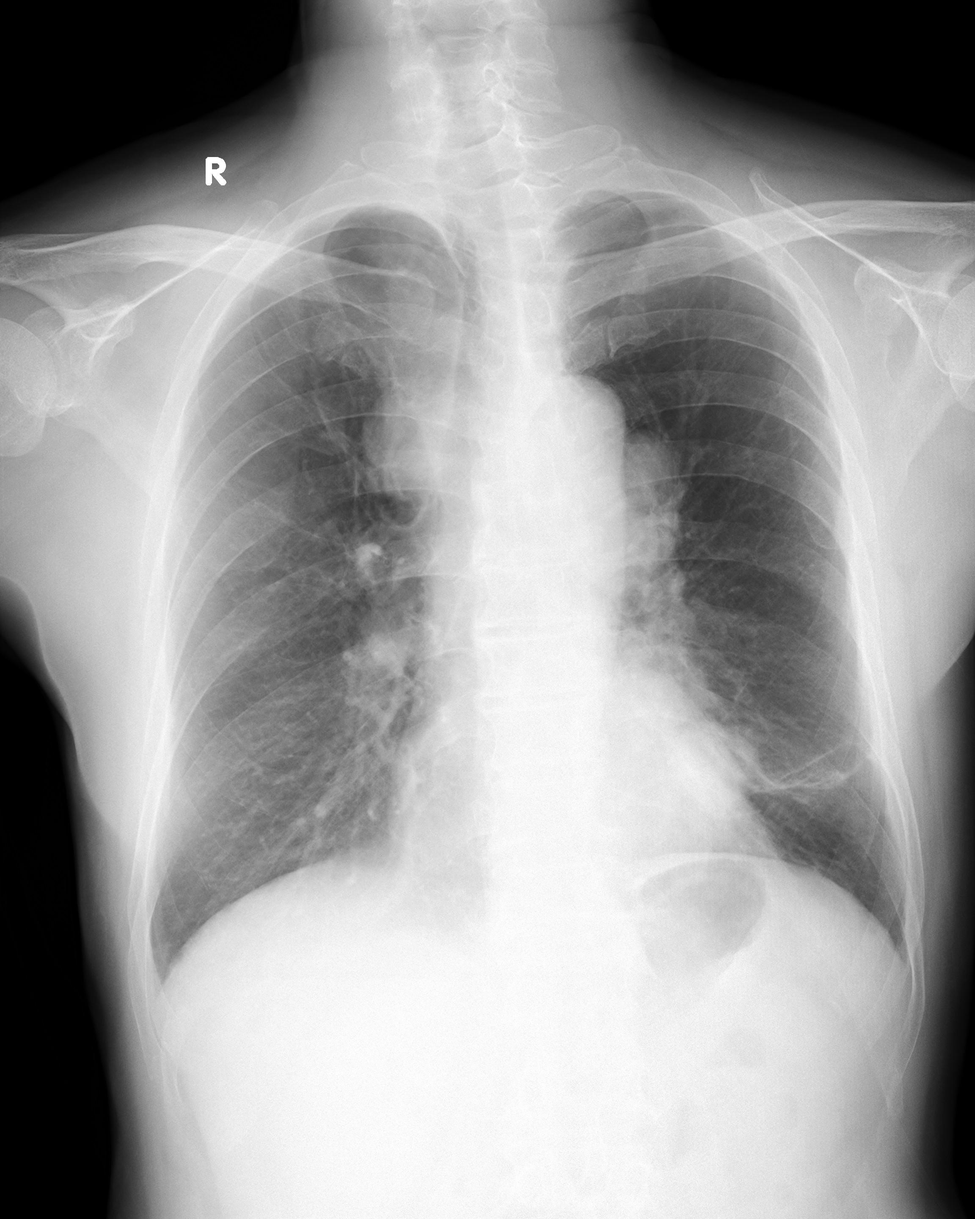Pulmonary fibrosis: (714, 727, 880, 794)
